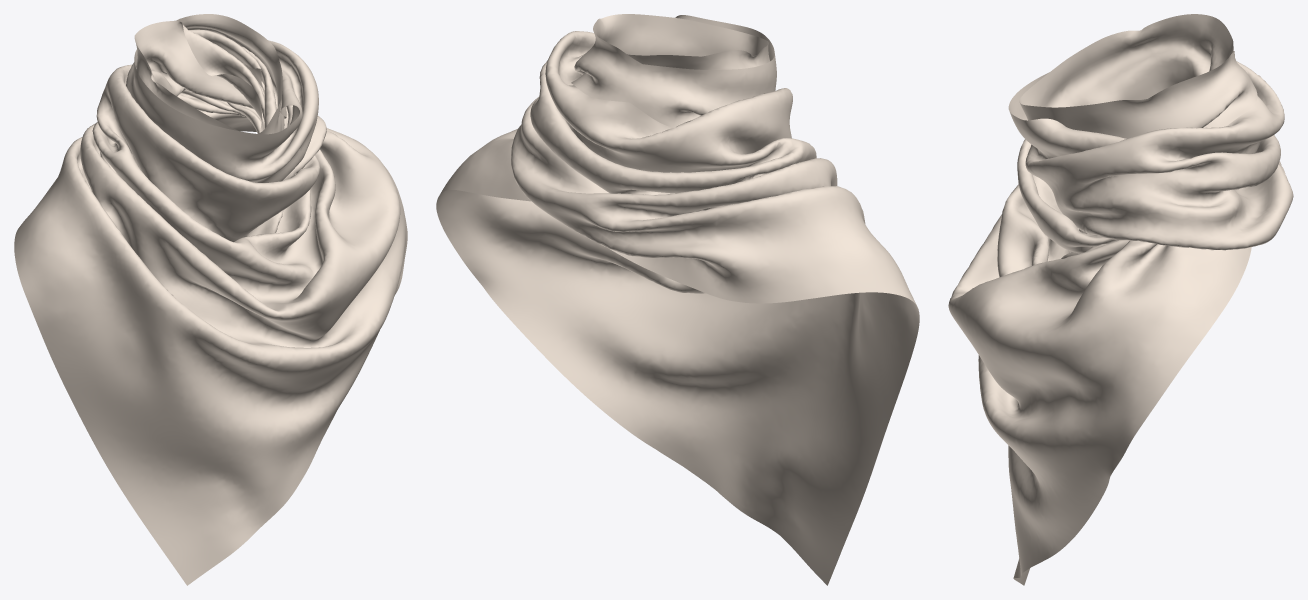
File: 2stich.fbx
The picture shows the model from 3 angles, left to right: view 1: azimuth 30°, elevation 25°; view 2: azimuth 150°, elevation 25°; view 3: azimuth 270°, elevation 25°; orthographic projection. The views are drawn at different scales.
Parts seen in each view (by area): view 1: 2; view 2: 2; view 3: 2.
Part boxes in pixels (x1,y1,x2,y2): 2: [14, 14, 407, 585]; 2: [436, 14, 919, 585]; 2: [948, 14, 1293, 585].
Bounding box in the file's own units: 487 × 588 × 314.
